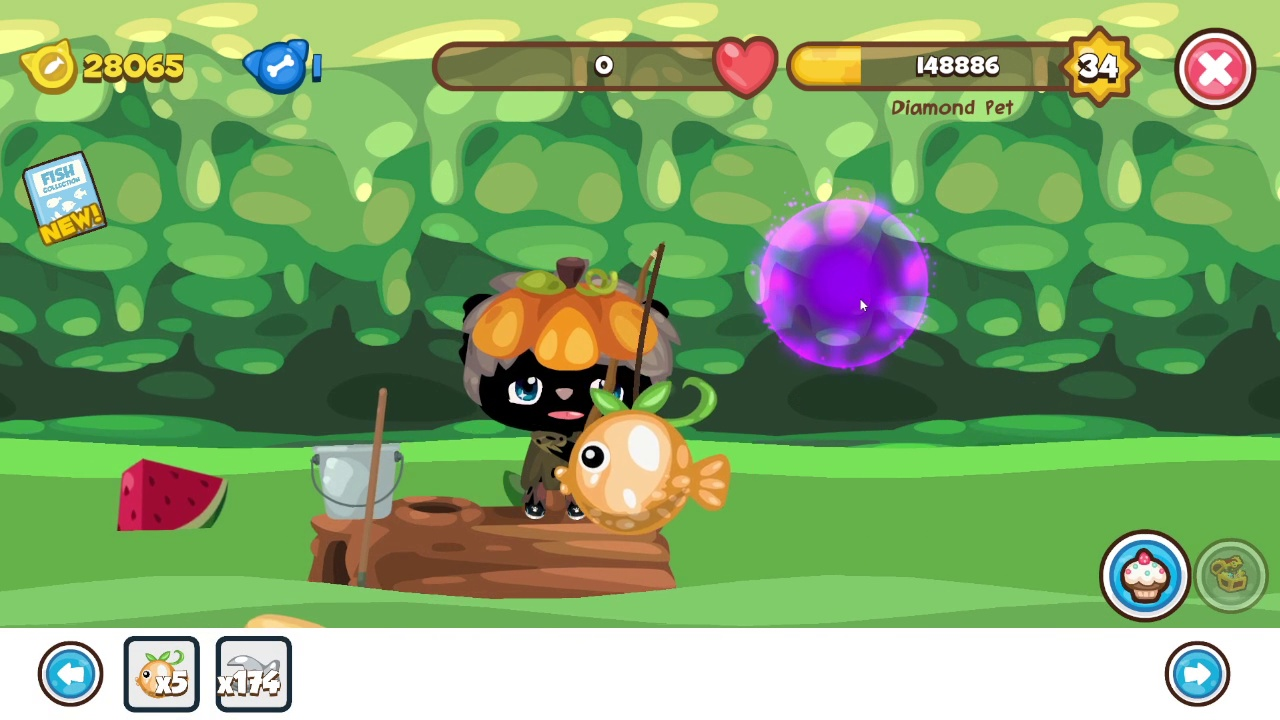point: (756, 197, 933, 372)
